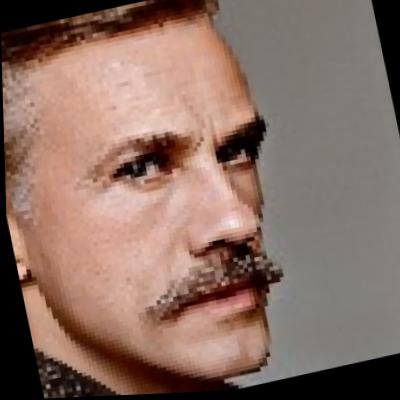angry: (0, 6, 294, 400)
